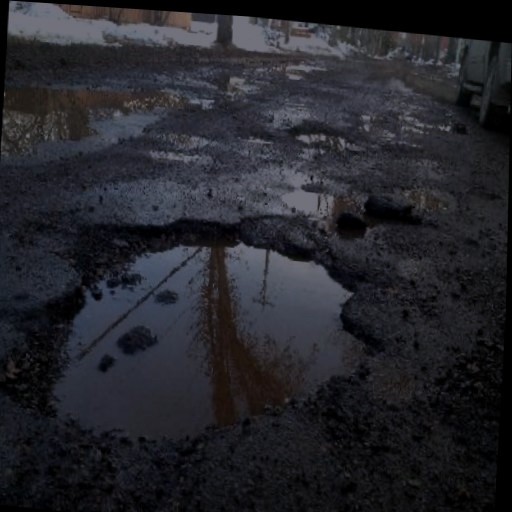pothole: (7, 191, 387, 463), (290, 120, 350, 152), (399, 182, 460, 212), (280, 182, 334, 213)
